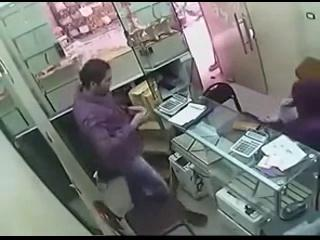Normal: (72, 59, 207, 234)
